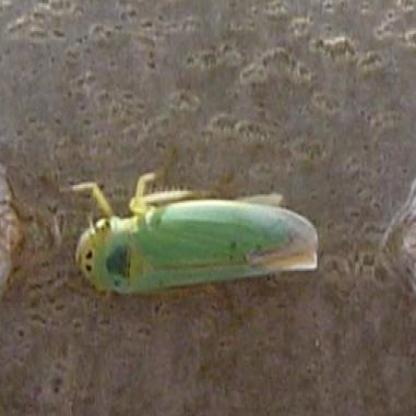Green-Leafhopper: (68, 164, 323, 281)
